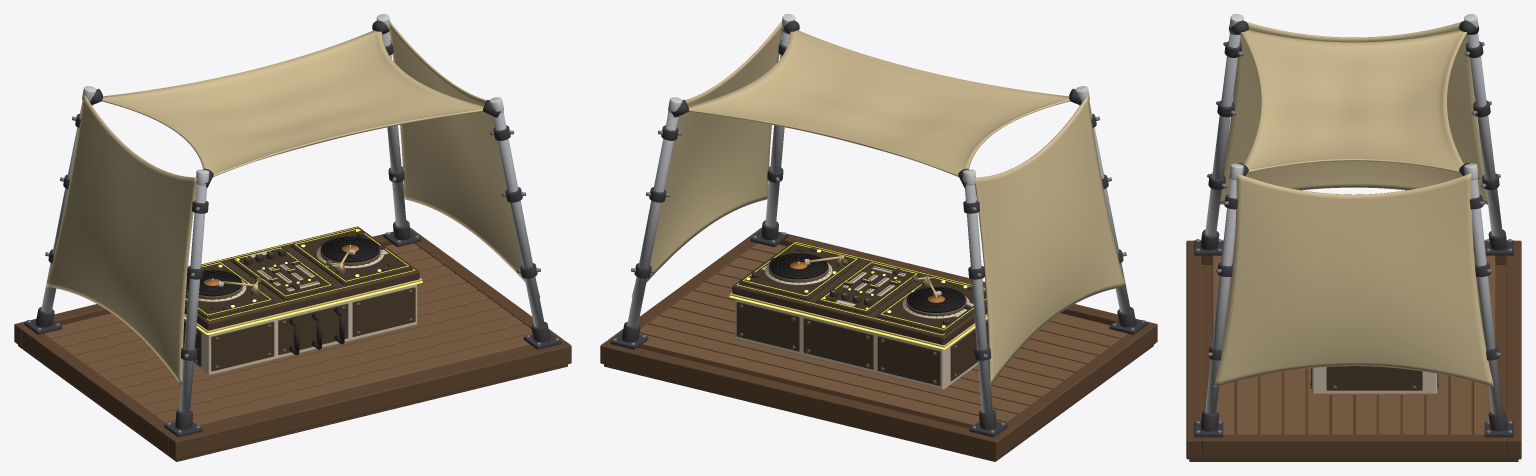
The model's file is console_completa.fbx.
3 renders of one model, left to right at view 1: azimuth 30°, elevation 25°; view 2: azimuth 150°, elevation 25°; view 3: azimuth 270°, elevation 25°, orthographic. The views are drawn at different scales.
Parts seen in each view (by area): view 1: Canopy, Side_L, Side_R, Frame_F, Plank_0, Frame_L, Plank_2, Plank_3, Plank_1, Top_Plate, Plank_4, Case_Body (+24 smaller); view 2: Canopy, Side_L, Side_R, Frame_B, Plank_11, Frame_L, Top_Plate, Plank_10, Plank_9, Panel_B1, Case_Body, BL_Pole (+25 smaller); view 3: Side_R, Canopy, Side_L, Frame_R, Base_Skirt, Frame_B, Frame_F, Panel_SR, BR_Pole, FR_Pole, BL_Pole, FL_Pole (+13 smaller).
Part boxes in pixels (x1,y1,x2,y2): Canopy: [101, 30, 483, 176]; Side_L: [46, 95, 196, 385]; Side_R: [389, 21, 540, 297]; Frame_F: [168, 340, 571, 459]; Plank_0: [166, 333, 533, 428]; Frame_L: [21, 328, 174, 454]; Plank_2: [143, 316, 523, 414]; Plank_3: [131, 307, 511, 405]; Plank_1: [154, 324, 532, 422]; Top_Plate: [184, 226, 419, 330]; Plank_4: [120, 299, 500, 397]; Case_Body: [184, 284, 417, 375]; Canopy: [688, 30, 1070, 176]; Side_L: [975, 95, 1125, 385]; Side_R: [631, 21, 782, 297]; Frame_B: [600, 340, 1003, 459]; Plank_11: [638, 333, 1005, 428]; Frame_L: [997, 328, 1150, 454]; Top_Plate: [732, 241, 987, 344]; Plank_10: [639, 324, 1017, 422]; Plank_9: [648, 316, 1028, 414]; Panel_B1: [803, 318, 873, 369]; Case_Body: [735, 298, 987, 389]; BL_Pole: [965, 184, 992, 412]; Side_R: [1214, 173, 1493, 386]; Canopy: [1241, 30, 1466, 172]; Side_L: [1220, 22, 1487, 204]; Frame_R: [1201, 434, 1506, 459]; Base_Skirt: [1189, 264, 1518, 461]; Frame_B: [1506, 240, 1521, 459]; Frame_F: [1186, 240, 1201, 459]; Panel_SR: [1326, 366, 1422, 390]; BR_Pole: [1471, 179, 1502, 414]; FR_Pole: [1205, 179, 1236, 414]; BL_Pole: [1467, 33, 1502, 236]; FL_Pole: [1205, 33, 1240, 236].
Bounding box in the file's own units: 340 × 216 × 240.
